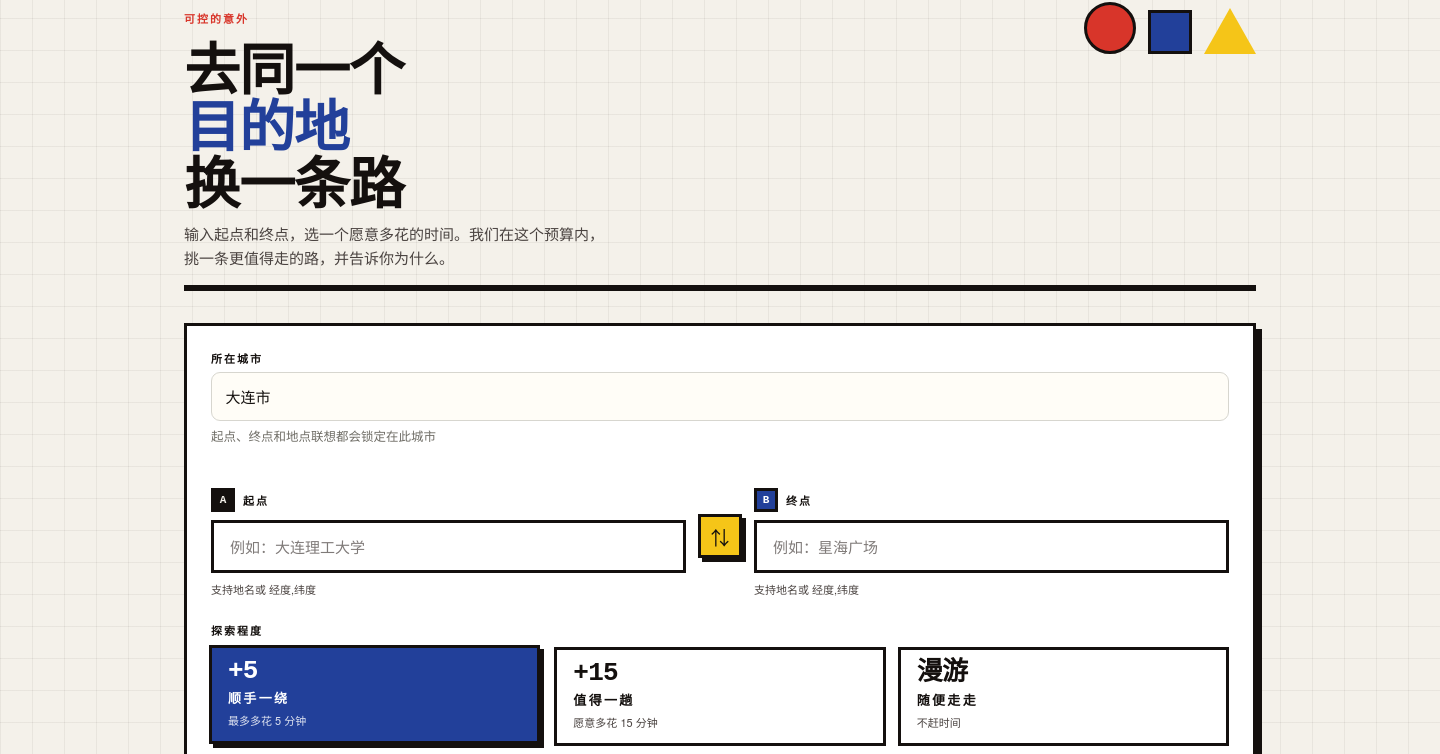
Test case: HomeView › keeps submit disabled until both places are filled
Type "大连理工大学" into the dropdown labelled "A 起点". click: (448, 547)
box: top-left (211, 520), bottom-right (686, 573)
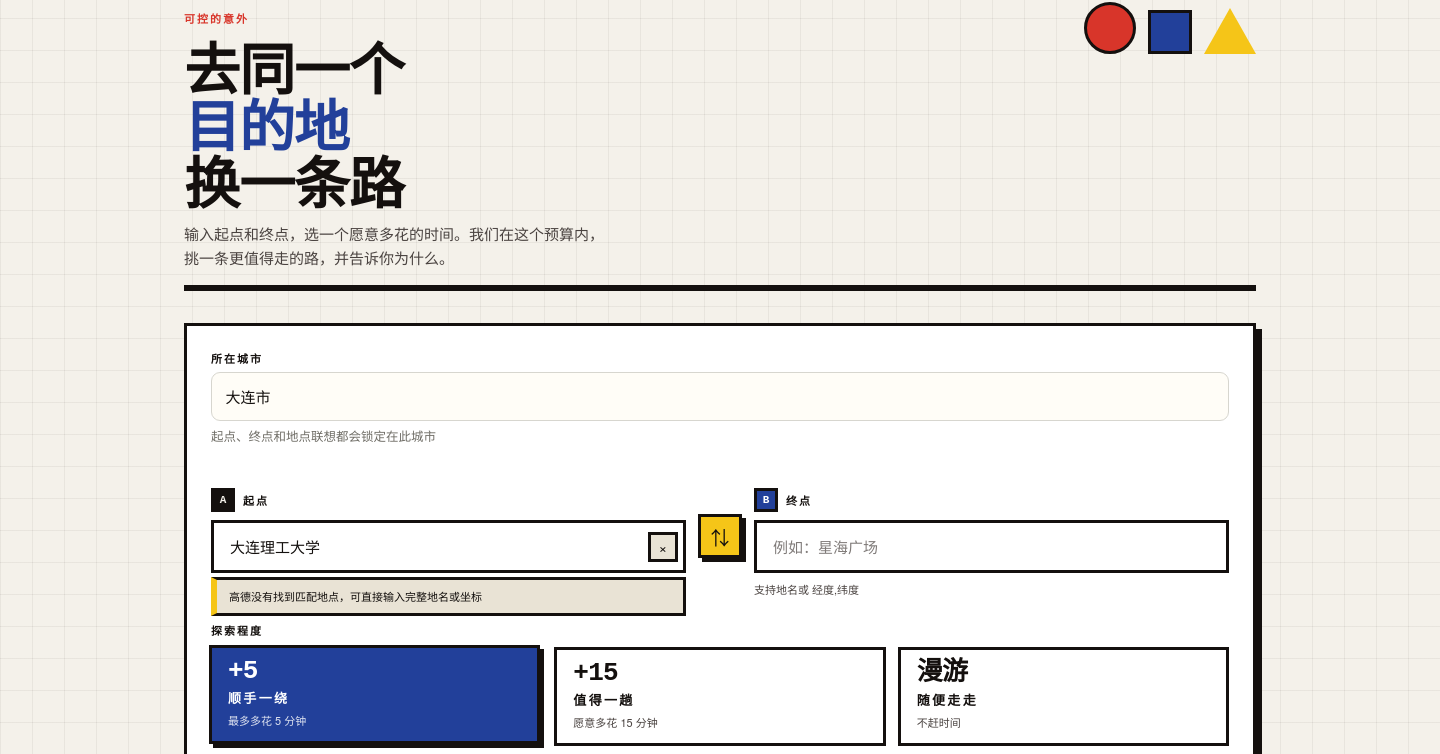
Type "星海广场" into the dropdown labelled "B 终点". click: (992, 547)
box: top-left (754, 520), bottom-right (1229, 573)
(page scrolled)
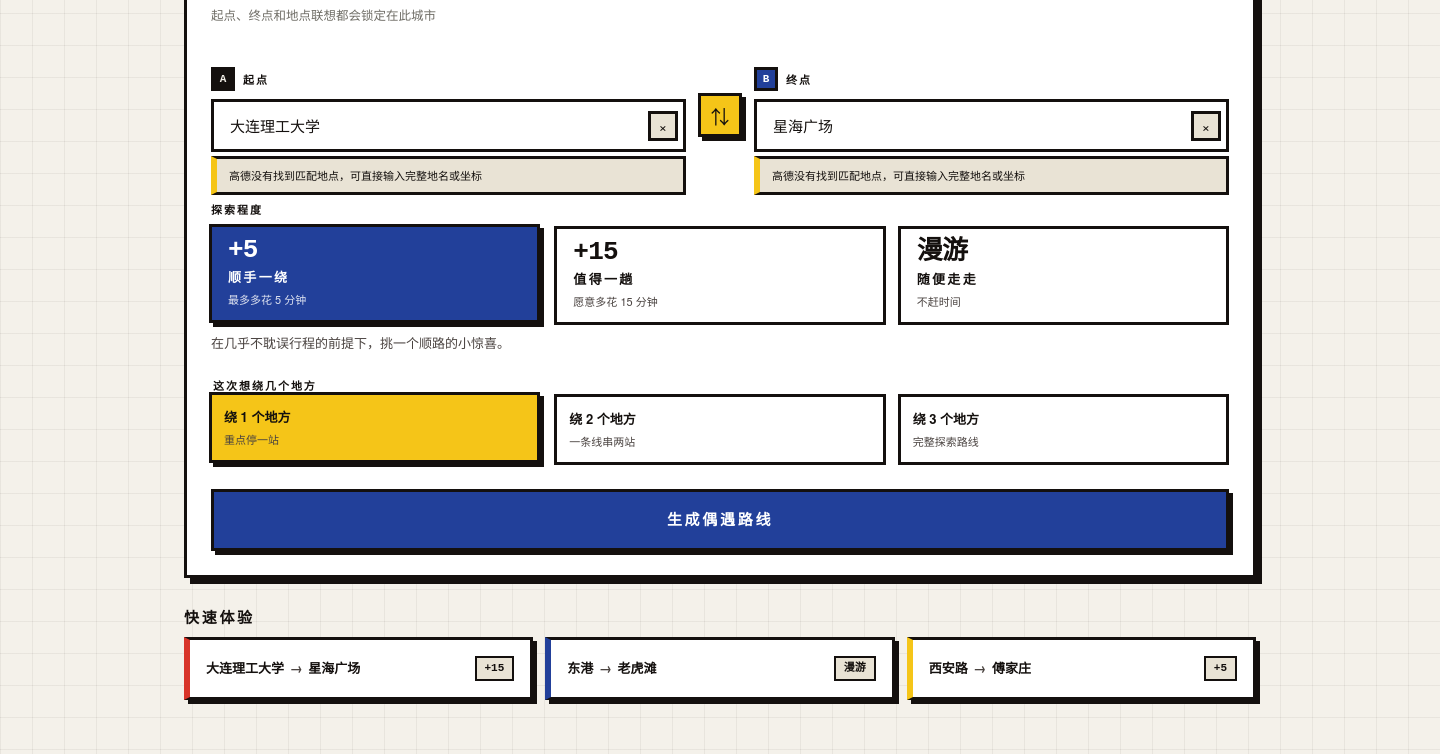
Check: the submit button is enabled, box top-left (211, 489), bottom-right (1229, 551)
